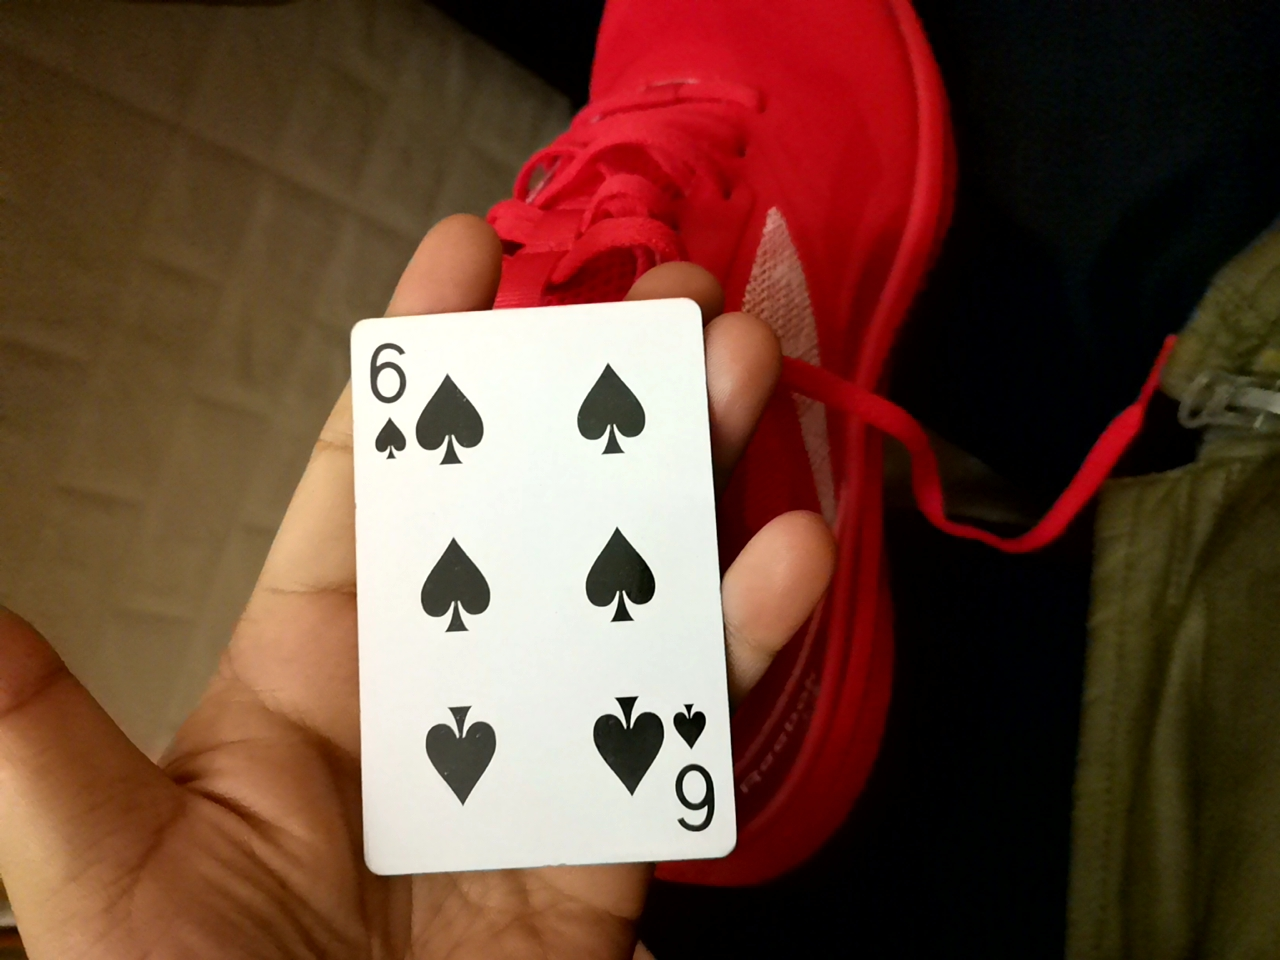ht 6: (345, 290, 749, 879)
